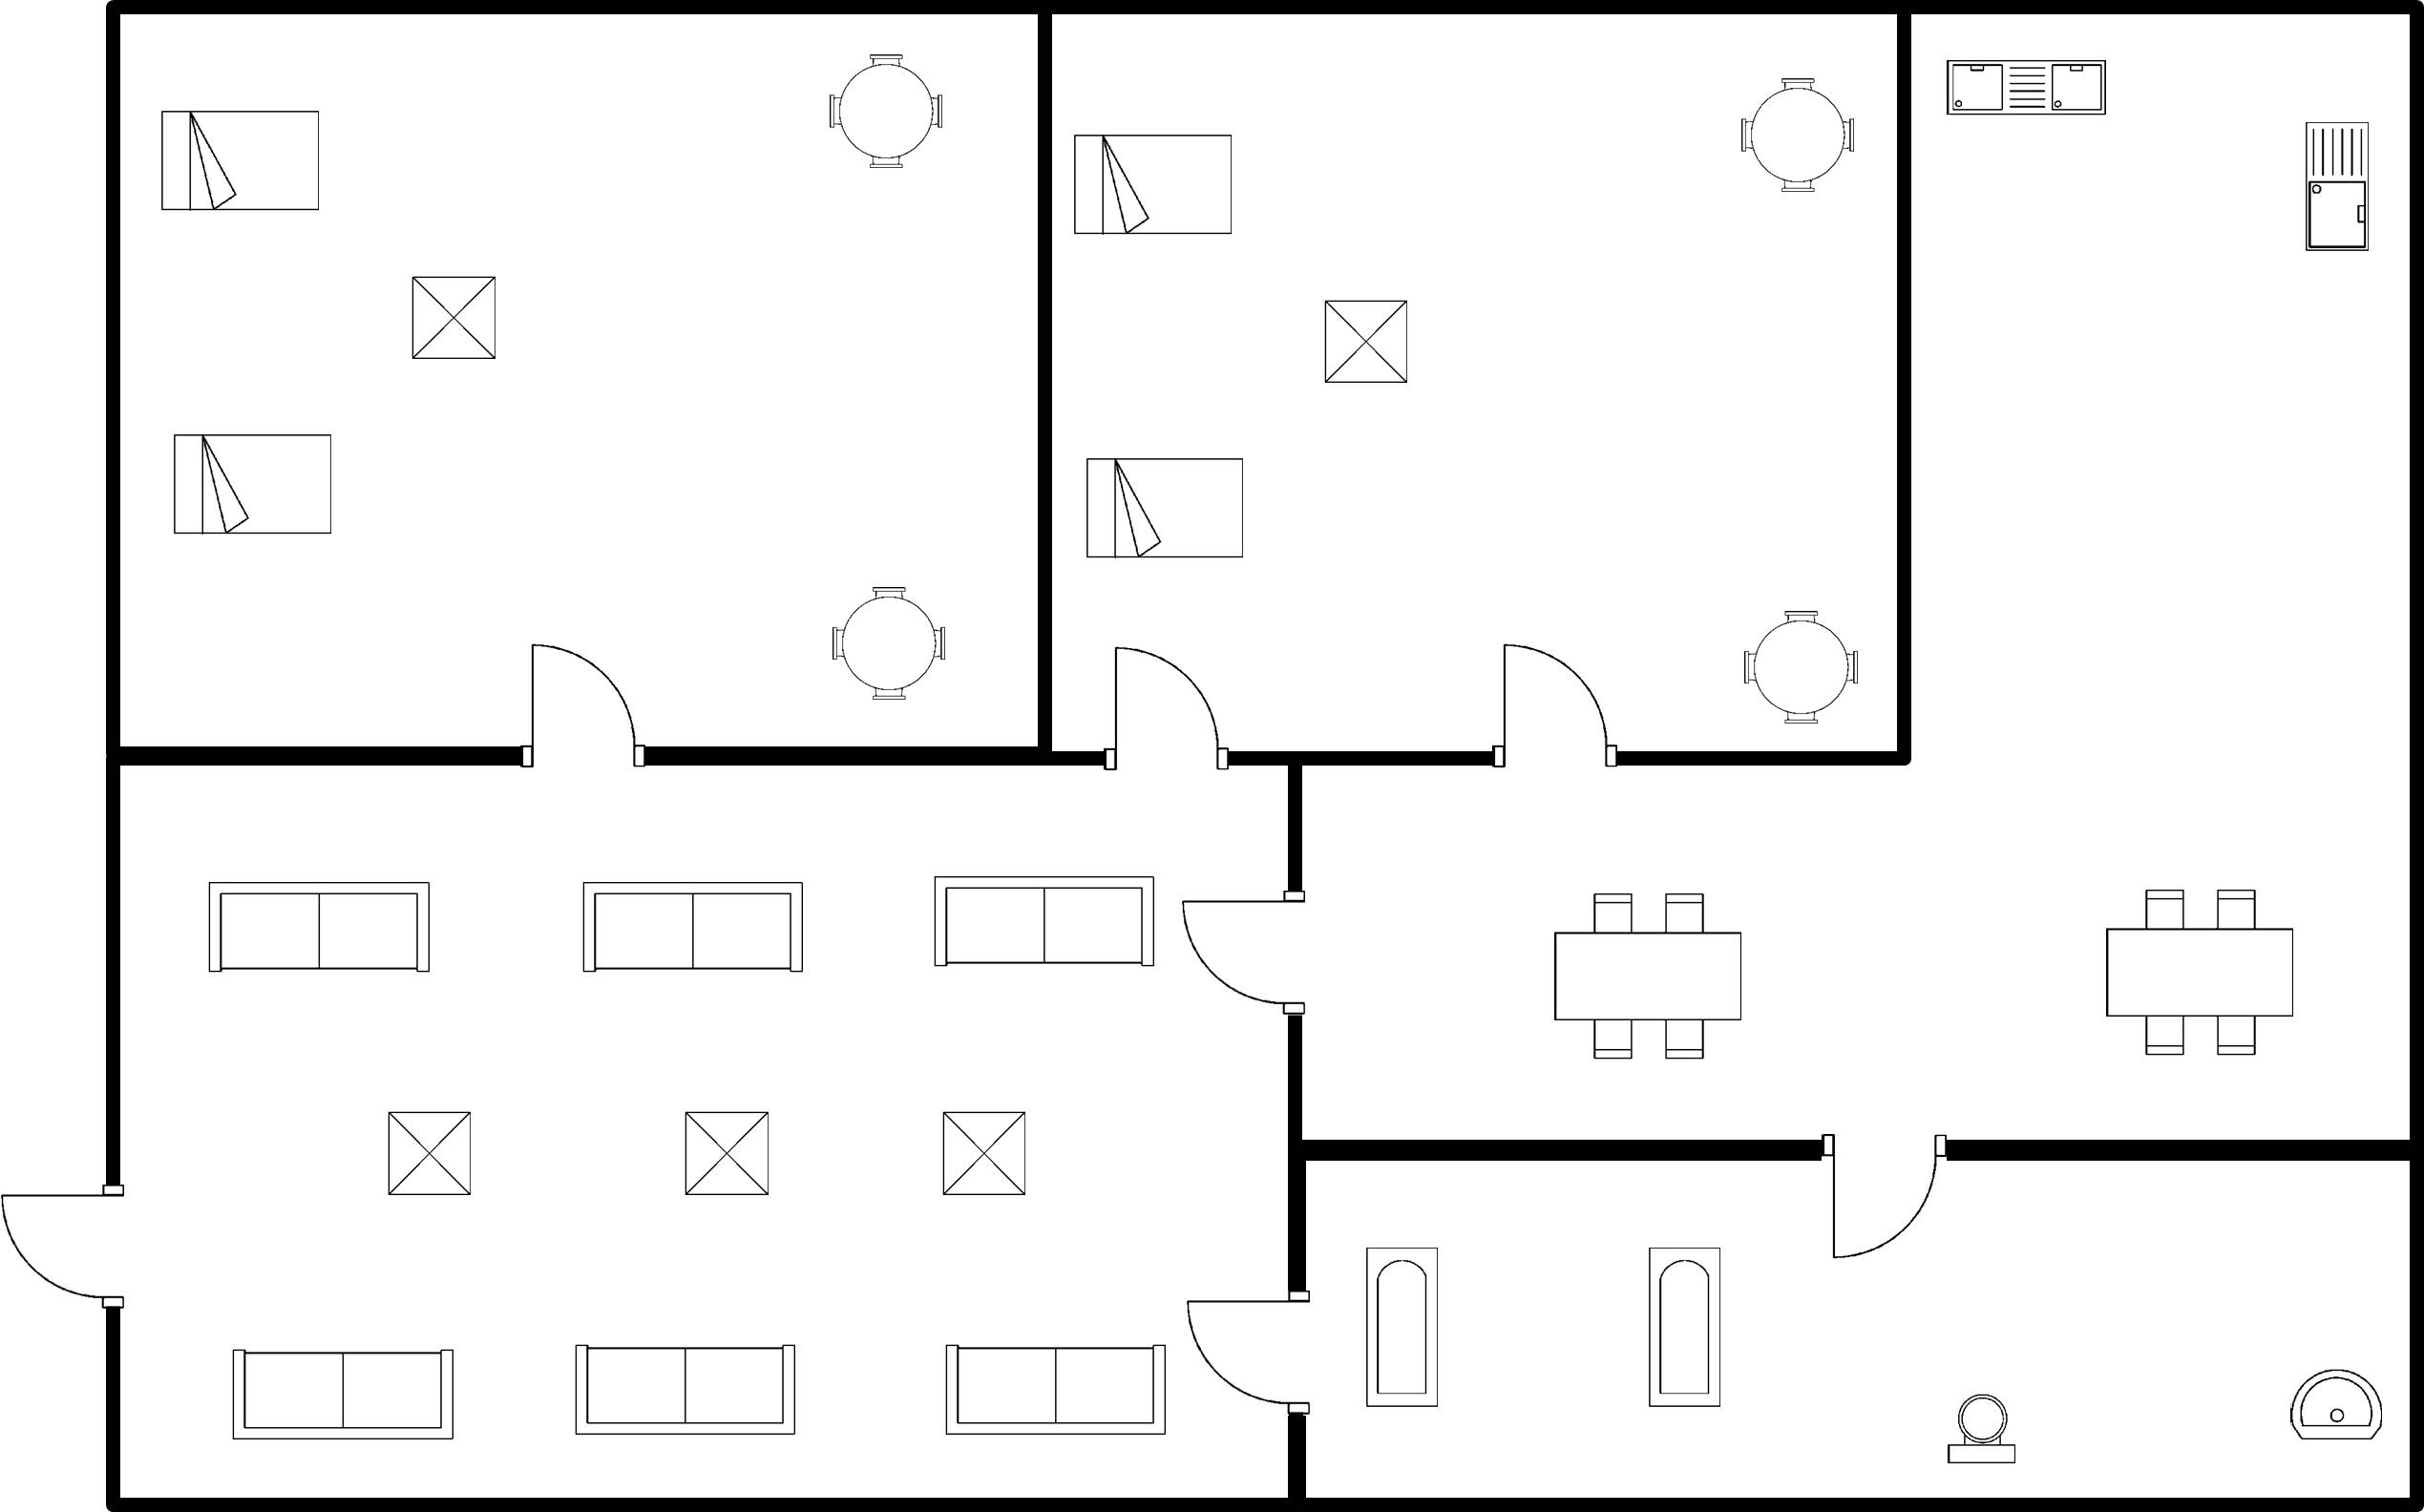bed: (158, 422, 344, 551), (1077, 443, 1254, 575), (1063, 125, 1243, 248), (152, 103, 327, 219)
coffee_table: (1311, 286, 1425, 401), (377, 1096, 486, 1215), (672, 1101, 778, 1210), (401, 262, 505, 371), (933, 1099, 1033, 1208)
dining_table: (2087, 876, 2310, 1075), (1536, 876, 1756, 1075)
large_sink: (1934, 1383, 2028, 1480)
large_sofa: (562, 1330, 810, 1455), (922, 859, 1164, 982), (931, 1332, 1177, 1451), (197, 871, 443, 990), (224, 1336, 471, 1455), (566, 871, 814, 984)
round_table: (1720, 65, 1866, 203), (821, 575, 960, 717), (814, 40, 952, 186), (1733, 594, 1868, 736)
sink: (2293, 108, 2389, 267)
small_sink: (2272, 1361, 2397, 1451)
tub: (1634, 1232, 1735, 1429), (1353, 1238, 1450, 1427)
twin_sink: (1929, 49, 2121, 134)
